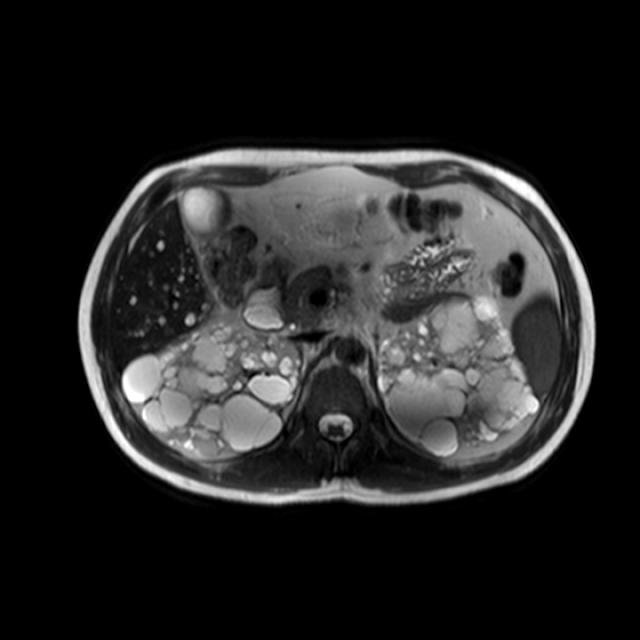sag: (121, 315, 308, 459)
sol: (377, 291, 539, 456)
